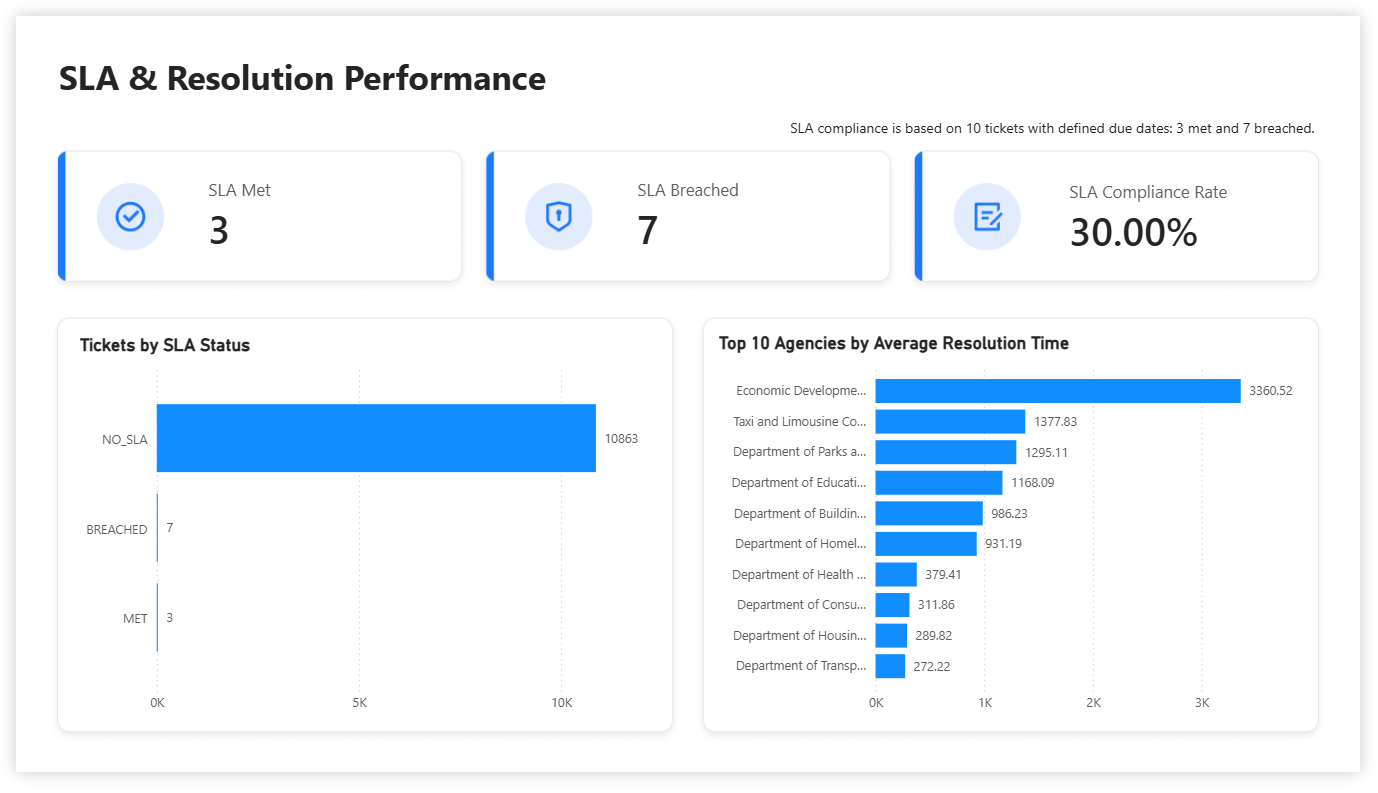

This screenshot's page, from the dashboard's own definition file:
{"tool":"powerbi","page":{"name":"SLA & Resolution Performance","canvas":[1280,720],"ordinal":1},"visuals":[{"type":"cardVisual","fields":{"Data":["reporting vw_agency_performance.SLA Met Display"]},"box":[299,85.9,197,112.1],"z":0},{"type":"cardVisual","fields":{"Data":["reporting vw_agency_performance.SLA Breached Display"]},"box":[496.5,85.9,186.4,112.1],"z":1000},{"type":"cardVisual","fields":{"Data":["reporting vw_agency_performance.SLA Compliance Rate"]},"box":[682.8,85.9,216.7,112.1],"z":2000},{"type":"clusteredBarChart","title":"Tickets by SLA Status","fields":{"Category":["reporting vw_sla_performance.sla_status"],"Y":["Sum(reporting vw_sla_performance.ticket_count)"]},"box":[32,278,470,402],"z":3000},{"type":"clusteredBarChart","title":"Top 10 Agencies by Average Resolution Time","fields":{"Category":["reporting vw_agency_performance.agency_name"],"Y":["Avg(reporting vw_agency_performance.average_resolution_hours)"]},"box":[532.2,277.8,710,400],"z":4000},{"type":"textbox","box":[331.8,198.5,565.2,31.8],"z":5000},{"type":"textbox","box":[31.7,28.3,1210,45],"z":6000}]}

Visuals, with their boxes in screenshot pixels (x1, y1, x2, y2), scaled from the page's 1280x720 canvas onto the 1378x793 screenshot:
cardVisual - reporting vw_agency_performance.SLA Met Display: 322,95,534,218
cardVisual - reporting vw_agency_performance.SLA Breached Display: 535,95,735,218
cardVisual - reporting vw_agency_performance.SLA Compliance Rate: 735,95,968,218
"Tickets by SLA Status" clusteredBarChart: 34,306,540,749
"Top 10 Agencies by Average Resolution Time" clusteredBarChart: 573,306,1337,747
textbox: 357,219,966,254
textbox: 34,31,1337,81
